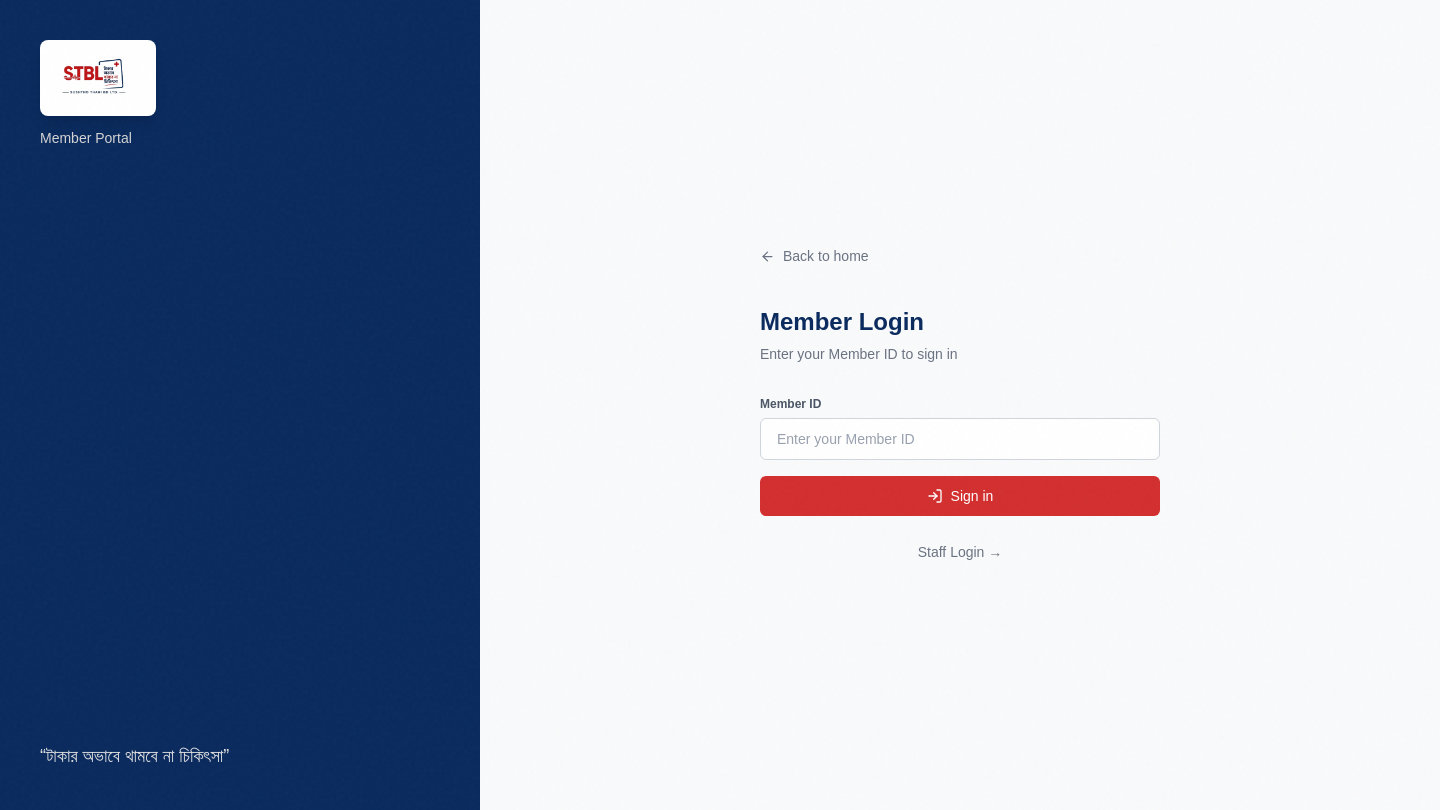
Scenario: LoginPage › moves to the OTP step after a valid Staff ID and password
This screenshot has width=1440, height=810.
Click the button "Staff Login →" at (960,552), box [918,542,1002,562]
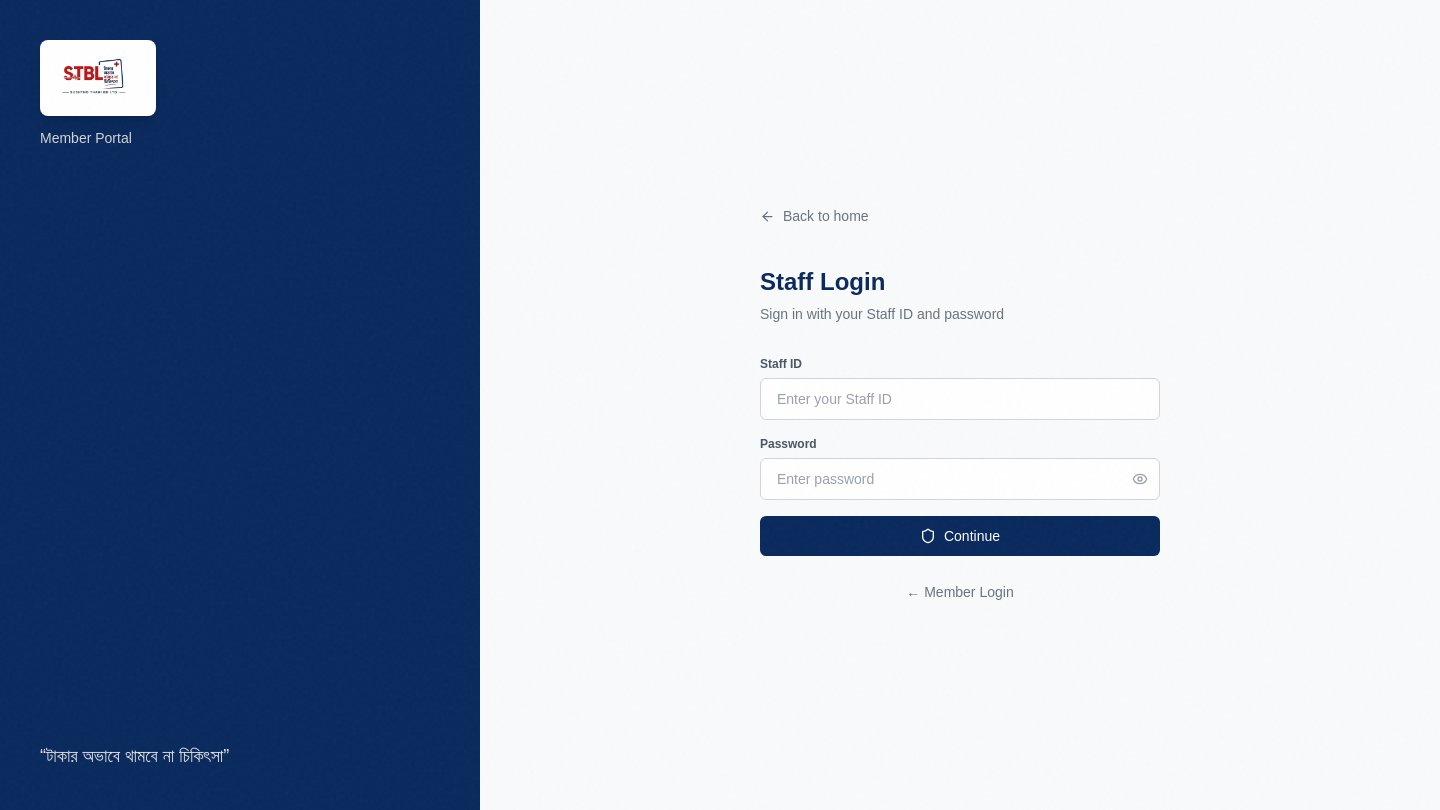
Type "ATB-ADMIN-01" into the field with placeholder "Enter your Staff ID" at (960,399), box [760,378,1160,420]
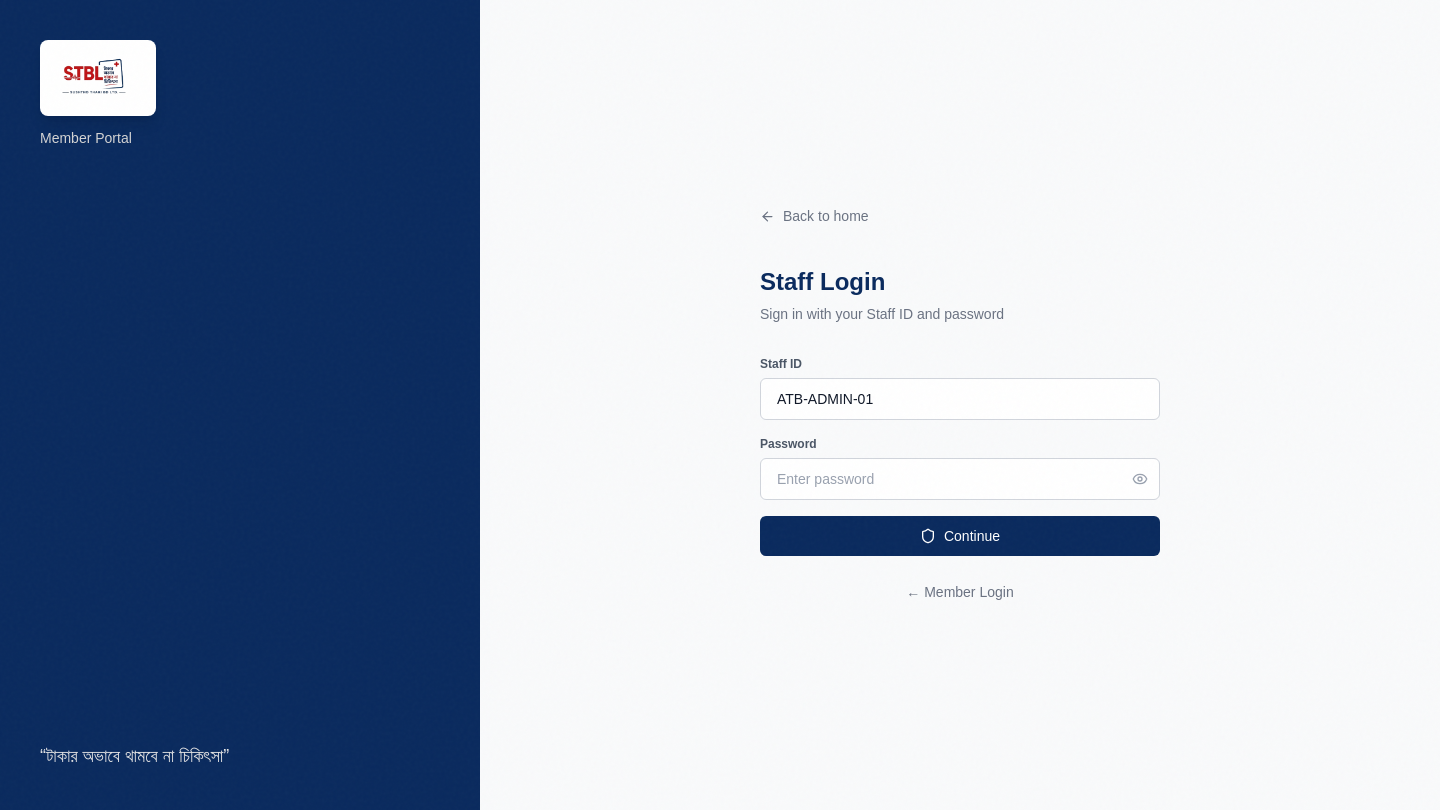
Type "Password123!" into the password field with placeholder "Enter password" at (960,479), box [760,458,1160,500]
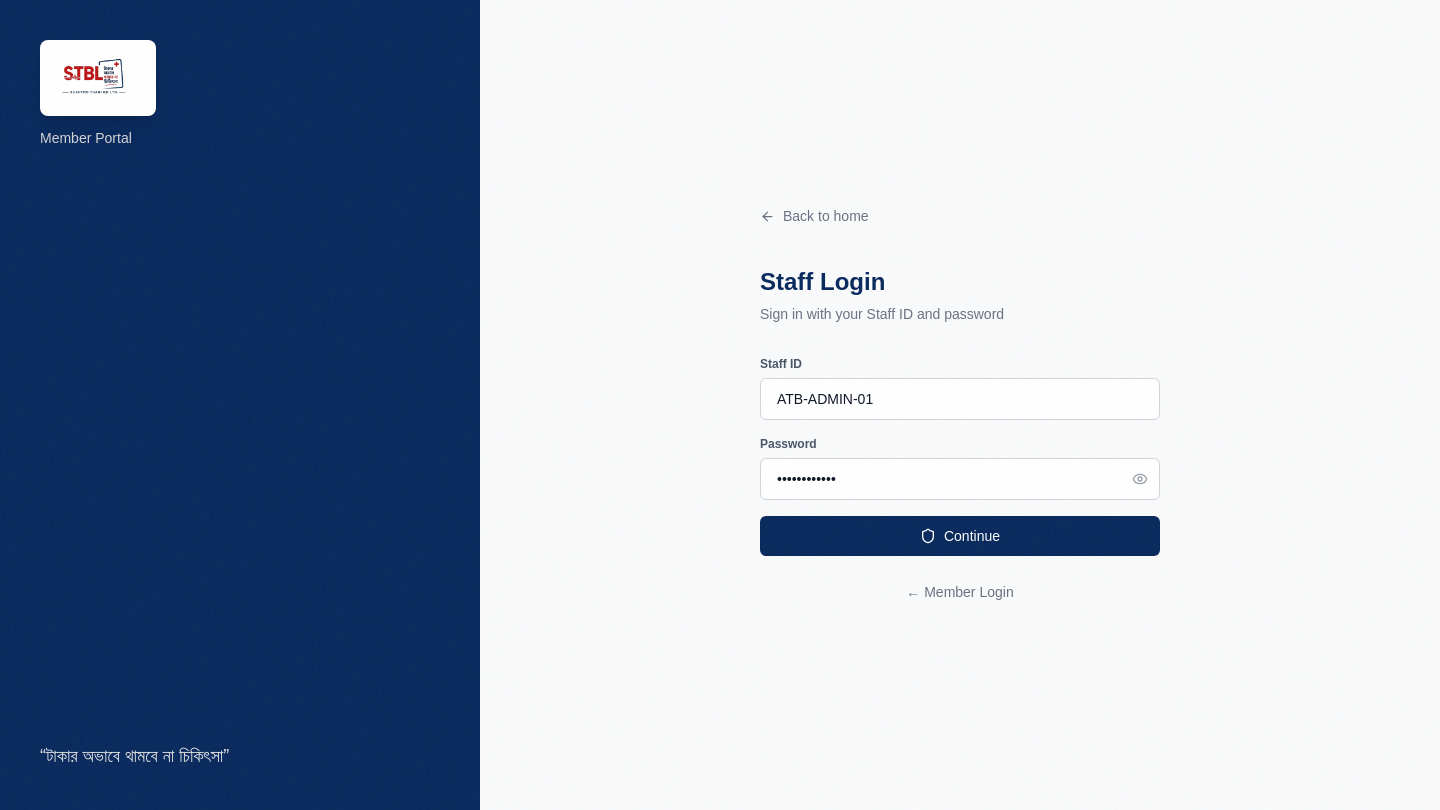
Click the button "Continue" at (960,536), box [760,516,1160,556]
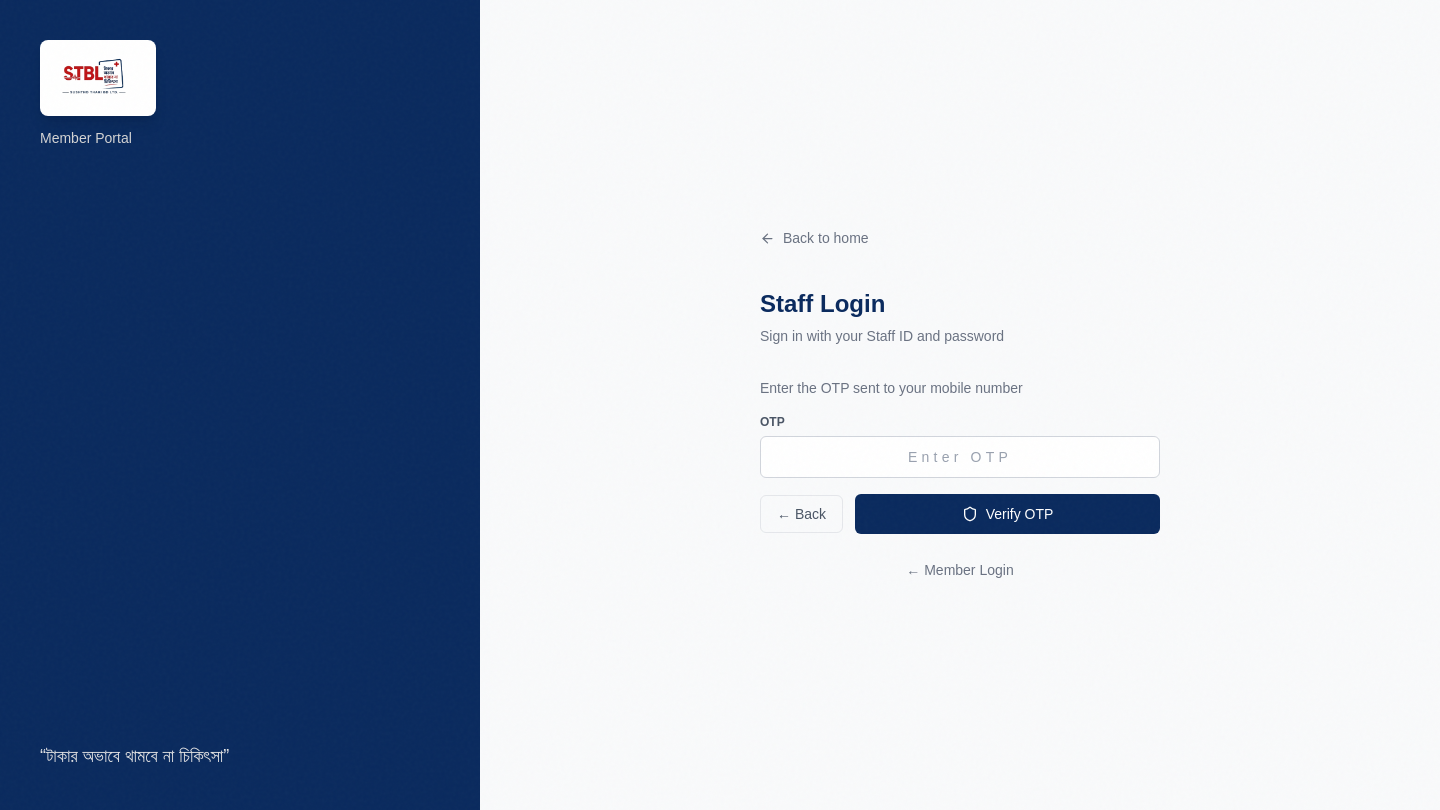
Expected: the text "Enter the OTP sent to your mobile number" is shown, [760,380,1023,396]
